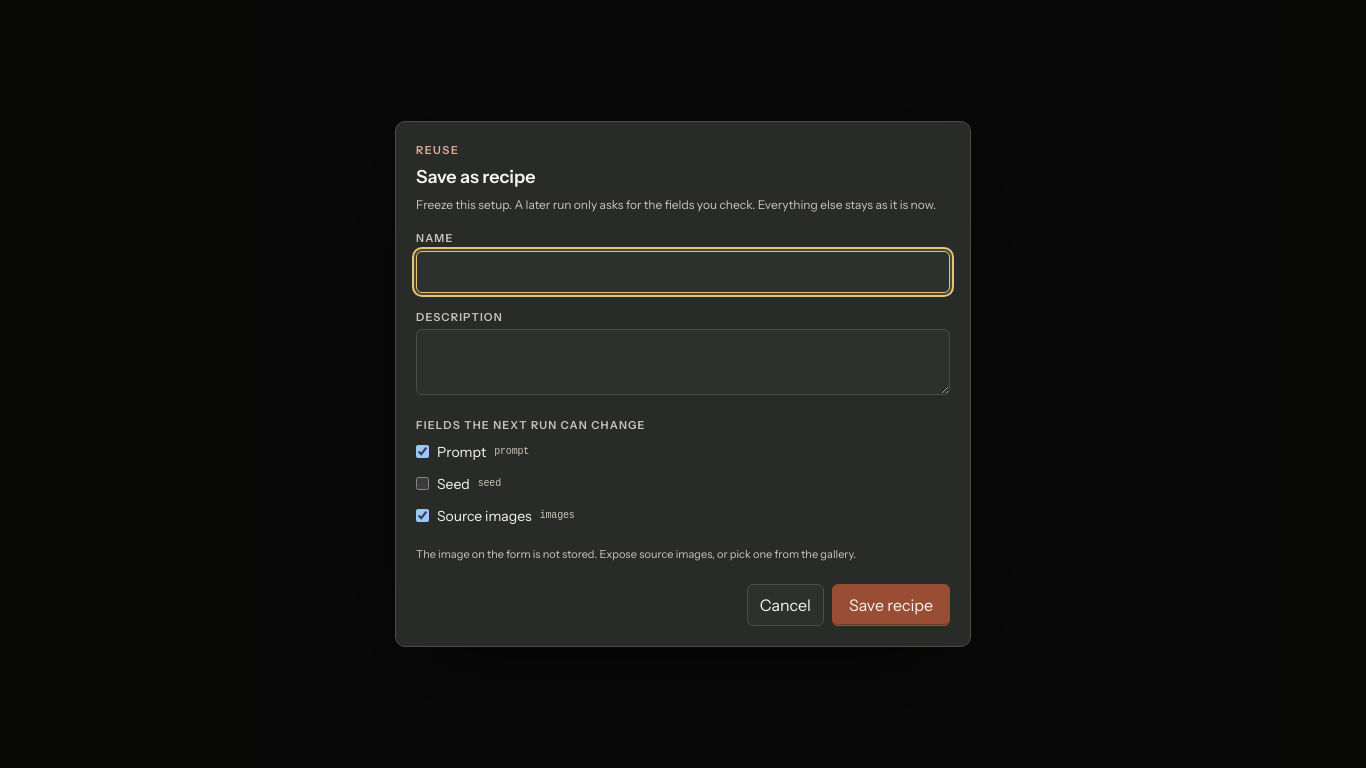
Test case: SaveRecipeDialog › requires a gallery image when source images are not exposed
The width and height of the screenshot is (1366, 768).
Expected: the text "image on the form is not stored" is shown, [416,547,856,561]
Click the checkbox labelled "Source images images": click(422, 516) [416,509,429,522]
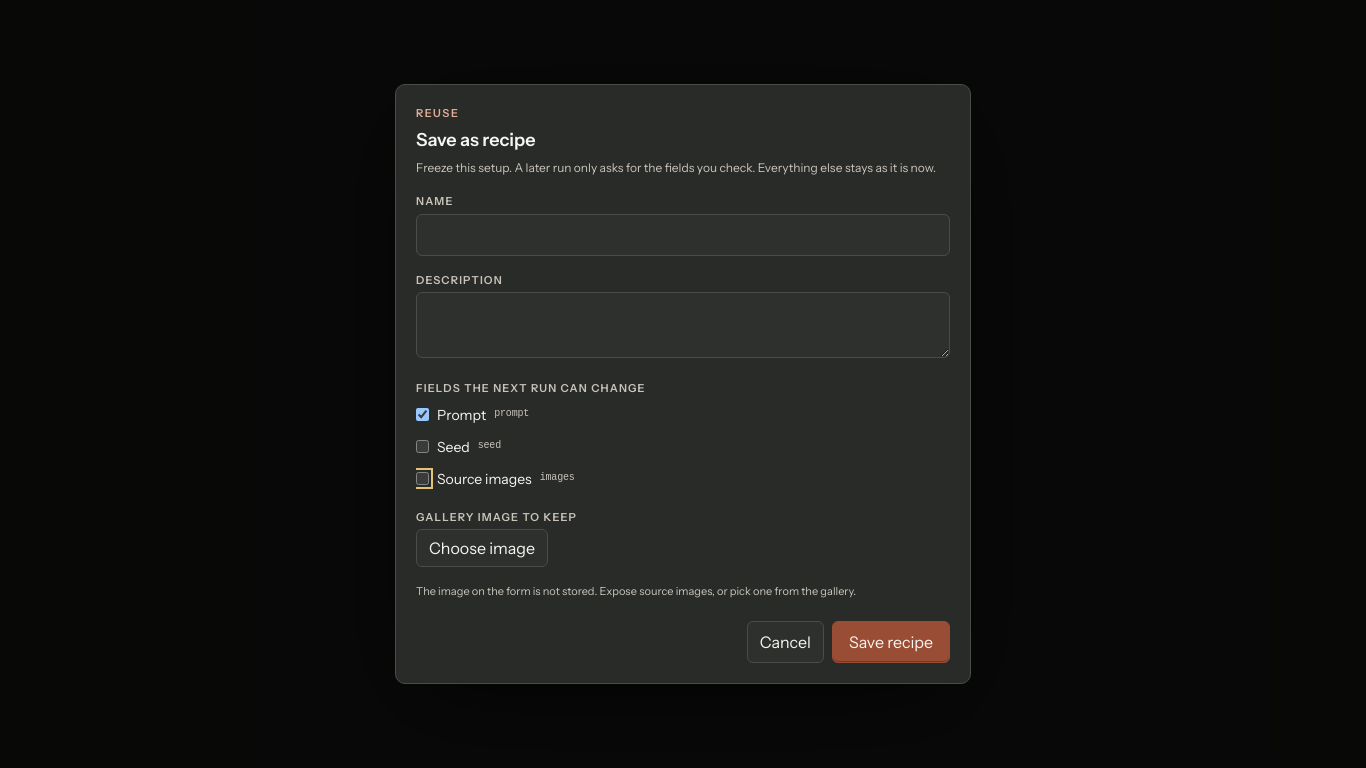
In the field labelled "Name": (683, 235) [416,214,950,256], type "Mend"
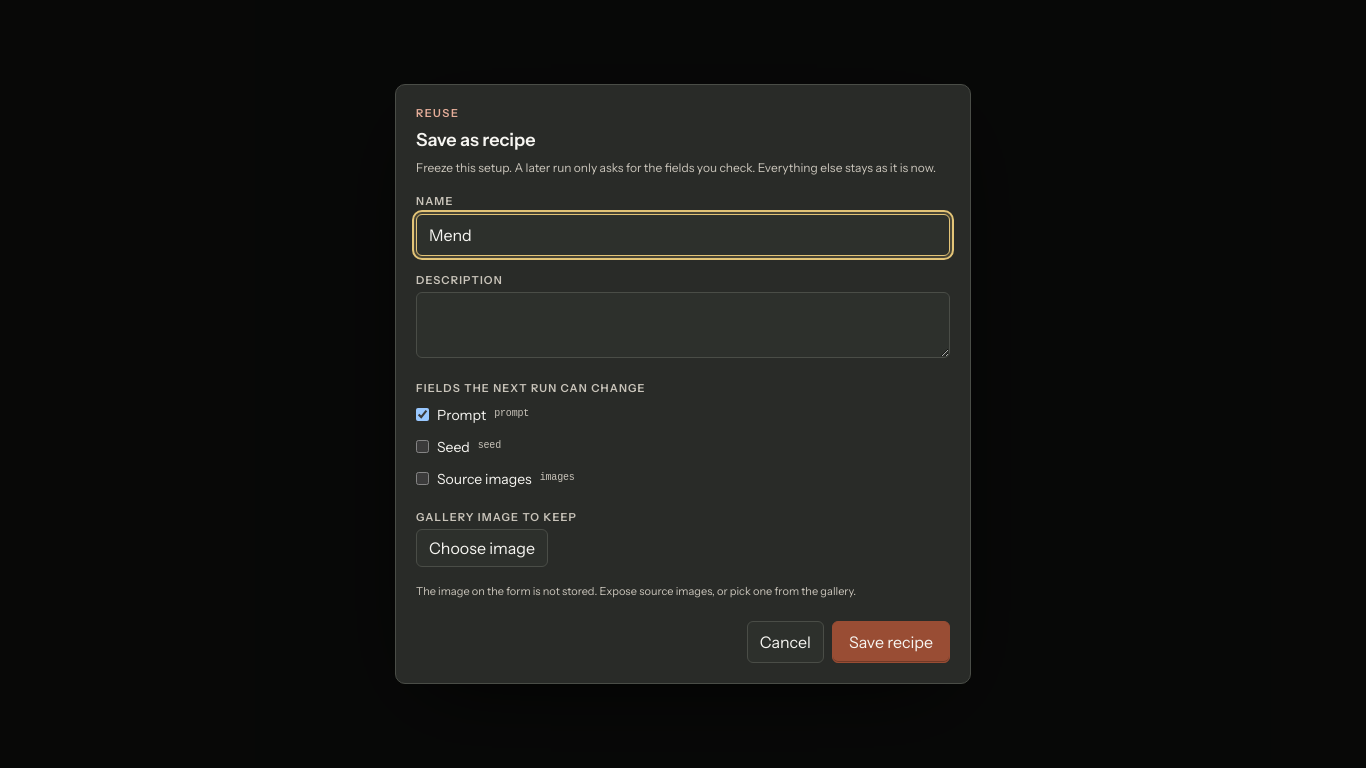
Click the button "Save recipe": click(891, 642) [832,621,950,663]
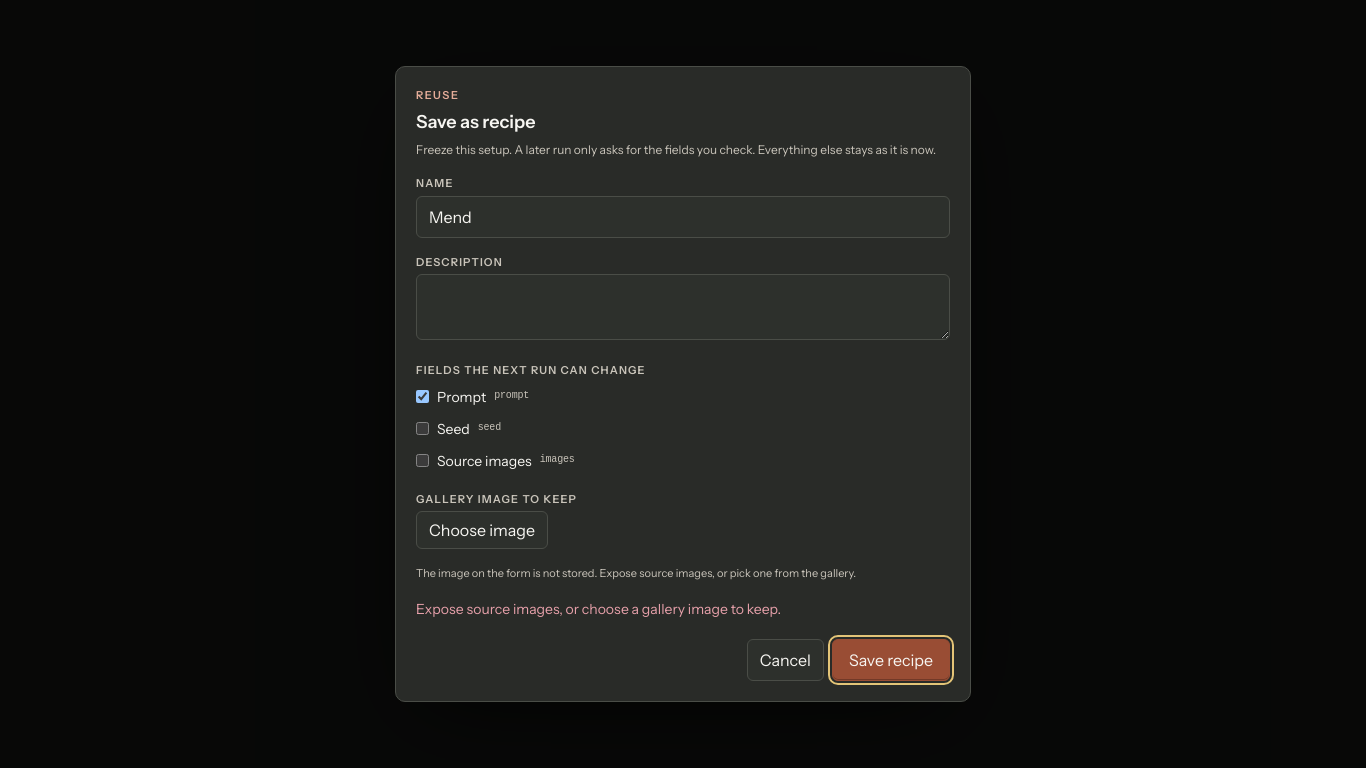
Result: the message shows "Expose source images" at [416,600,781,618]
